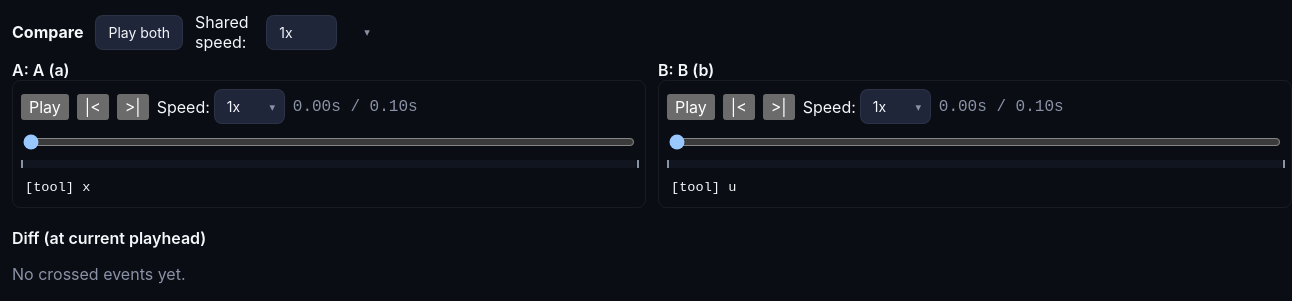
SessionCompareView › changing the shared speed dropdown propagates to both scrubbers
The width and height of the screenshot is (1292, 301).
Select "4x" in the dropdown with test id "session-compare-shared-speed": (302, 32) 266,14 -> 337,50
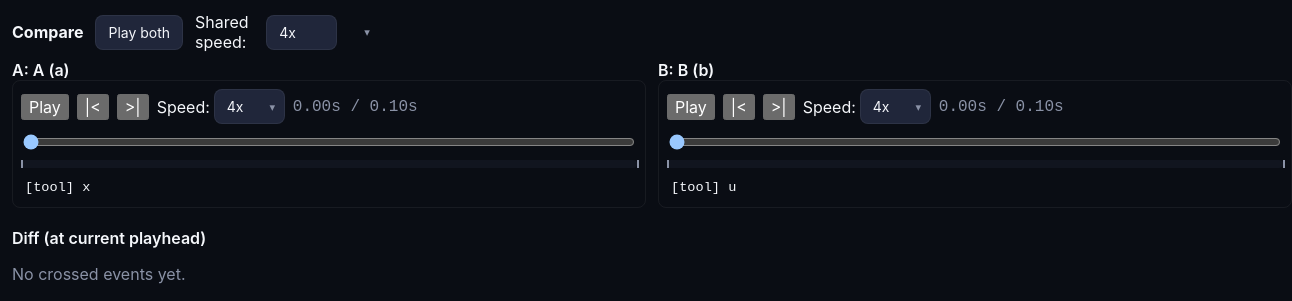
expect the dropdown with test id "session-compare-scrubber-a-speed" shows "4x": met, box 214,89 -> 285,124
expect the dropdown with test id "session-compare-scrubber-b-speed" shows "4x": met, box 860,89 -> 931,124
